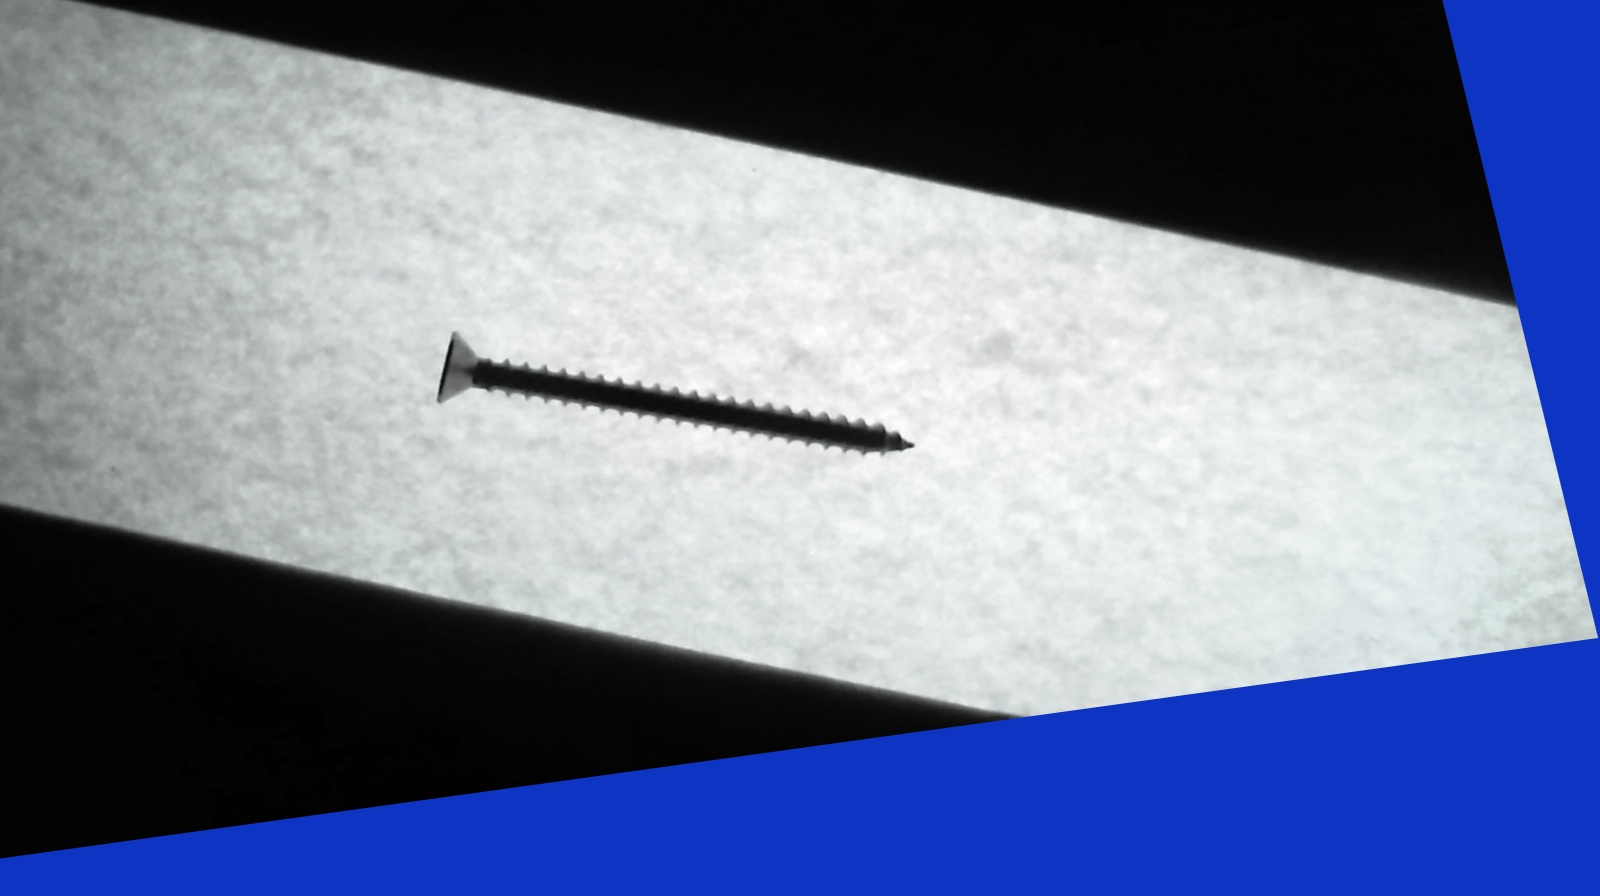S002: (420, 267, 930, 521)
